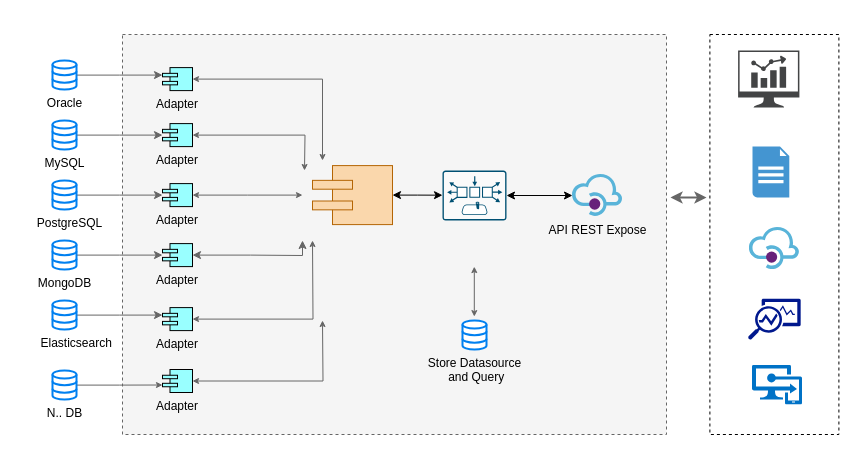
This 857x452 diagram has some shape labels left out. Here are the shapes that lost their labels. From the top down, the centre of each, then its label:
point 768,78: Dashboards
point 770,171: Reports
point 352,195: Parse Query Language Expresión
point 474,195: Admin Datasource and Query
point 774,248: APIS
point 774,318: Searchs
point 777,384: Apps
